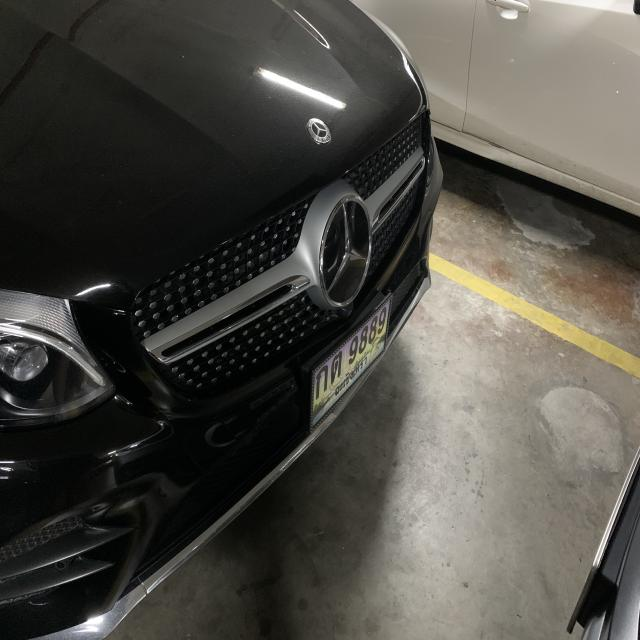license_plate: (308, 290, 392, 437)
